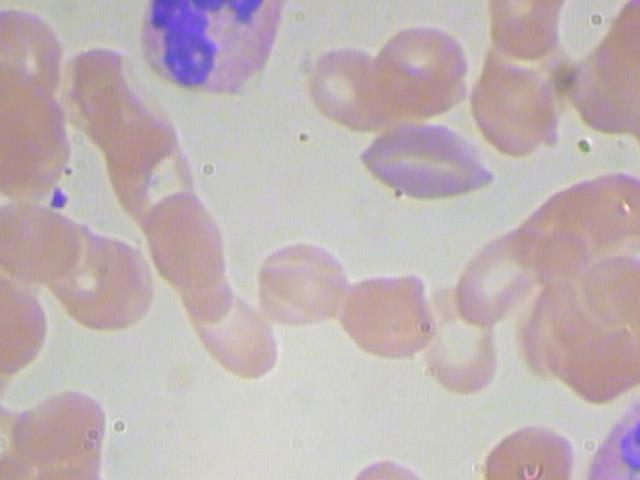Platelets: (45, 185, 74, 211)
Red Blood Cells: (349, 120, 499, 206), (458, 50, 559, 160), (408, 282, 505, 393), (101, 120, 201, 224), (143, 189, 240, 290), (184, 292, 283, 378), (253, 240, 352, 326), (305, 43, 404, 129), (373, 21, 472, 107), (1, 197, 94, 285), (343, 272, 437, 357), (8, 386, 110, 462), (1, 2, 70, 103), (558, 167, 639, 252), (558, 319, 639, 404), (479, 415, 578, 479)
White Blood Cells: (135, 1, 281, 104)
